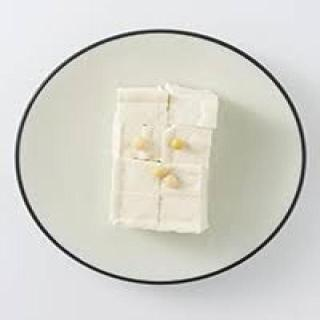Tahu: (89, 78, 241, 256)
